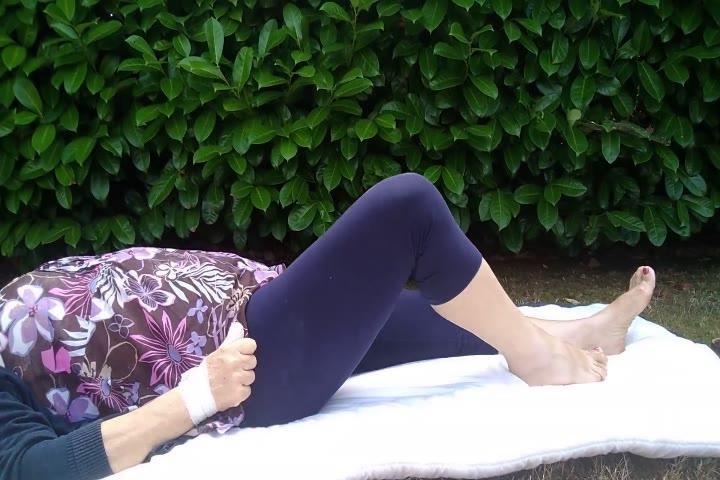lowerbody: (225, 164, 663, 433)
